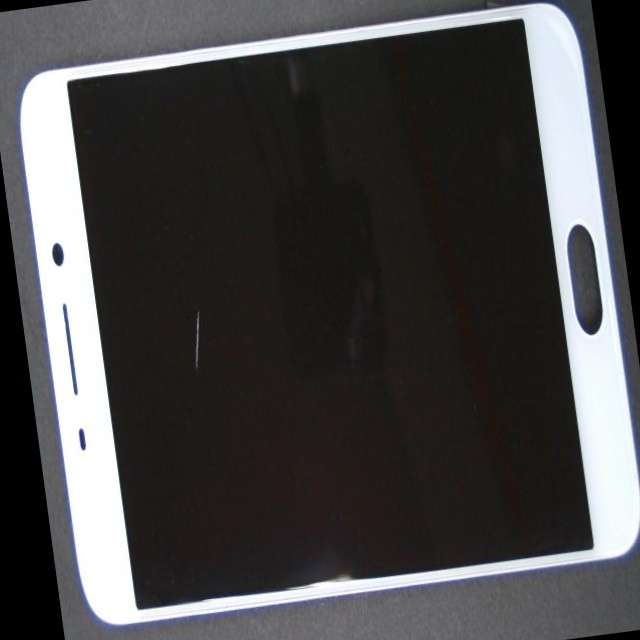scratch: (91, 85, 293, 487)
